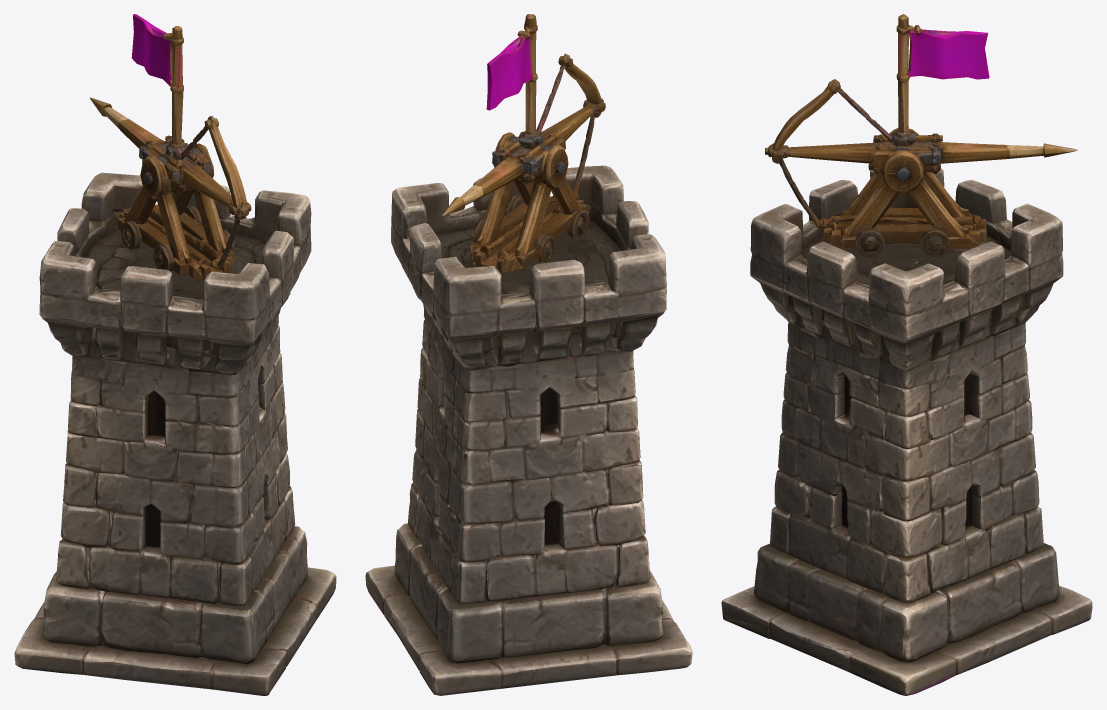
Rendered from tower2.glb.
3 views of the same model, side by side, from view 1: azimuth 30°, elevation 25°; view 2: azimuth 150°, elevation 25°; view 3: azimuth 270°, elevation 25° (orthographic).
Parts seen in each view (by area): view 1: Mesh_0; view 2: Mesh_0; view 3: Mesh_0.
Part boxes in pixels (x1,y1,x2,y2): Mesh_0: [14, 14, 336, 695]; Mesh_0: [365, 14, 692, 695]; Mesh_0: [721, 14, 1092, 695].
Size of the model in its own units: 1.06 by 1.9 by 1.06.
1 material, 1 textured.
